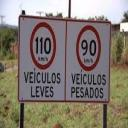speed_limit_110: (28, 21, 58, 71)
